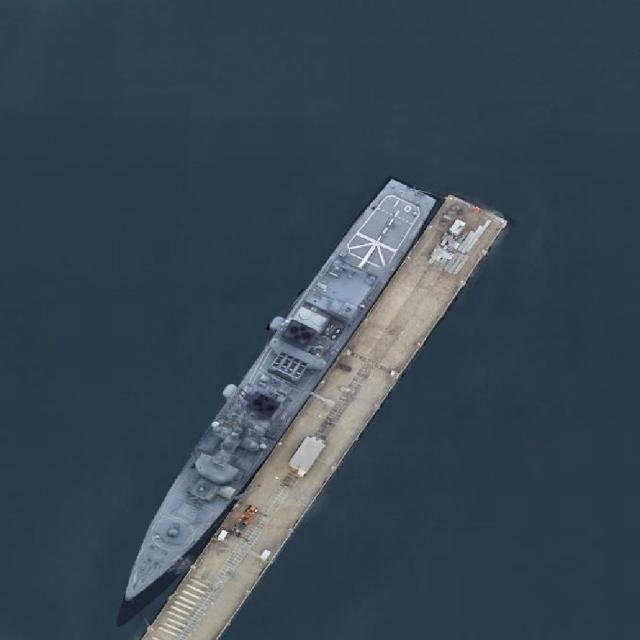Destroyer: (100, 162, 445, 625)
